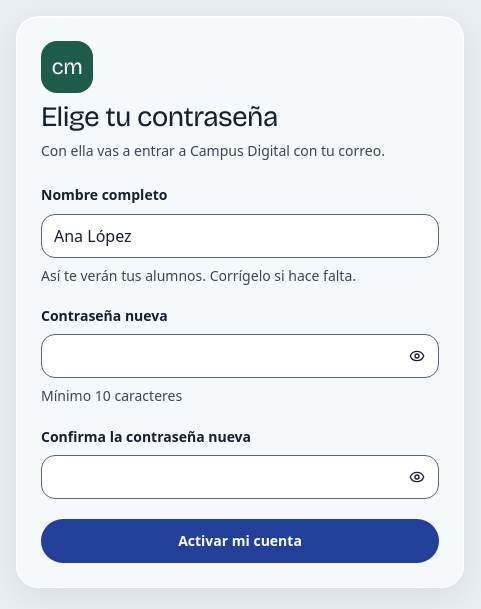
Test: ataque (AUTH-02b r1): formularios de enlace › ENLACE_INVALIDO en la invitación: mensaje propio, sin formulario y sin reintento
expect the button "Activar mi cuenta" is shown: met, box [41,519,439,563]
Type "clave-nueva-de-ataque-1" into the password field labelled "Contraseña nueva" at (240, 356), box [41,334,439,378]
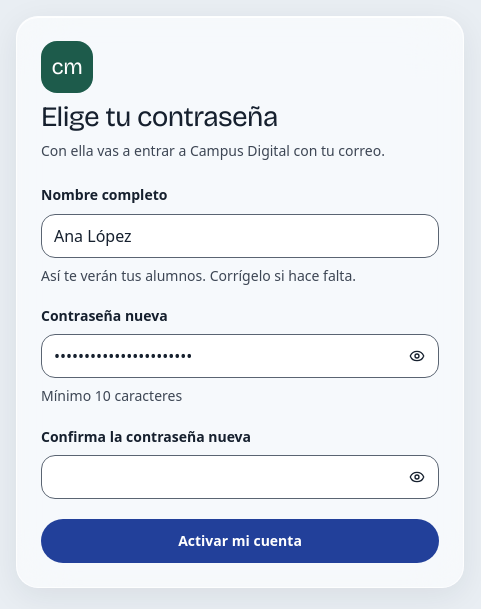
Type "clave-nueva-de-ataque-1" into the password field labelled "Confirma la contraseña nueva" at (240, 477), box [41,455,439,499]
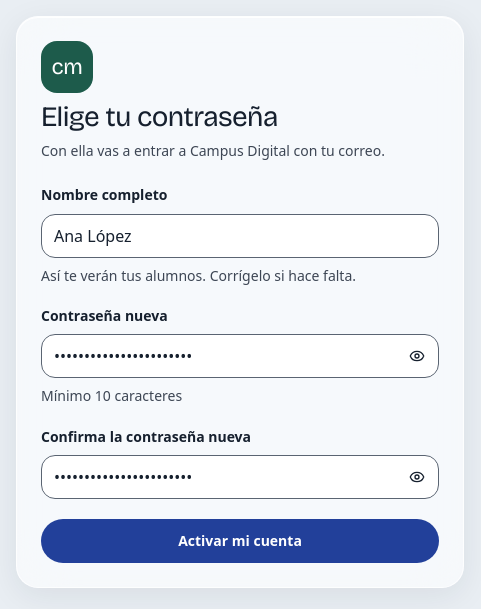
Click the button "Activar mi cuenta" at (240, 541), box [41,519,439,563]
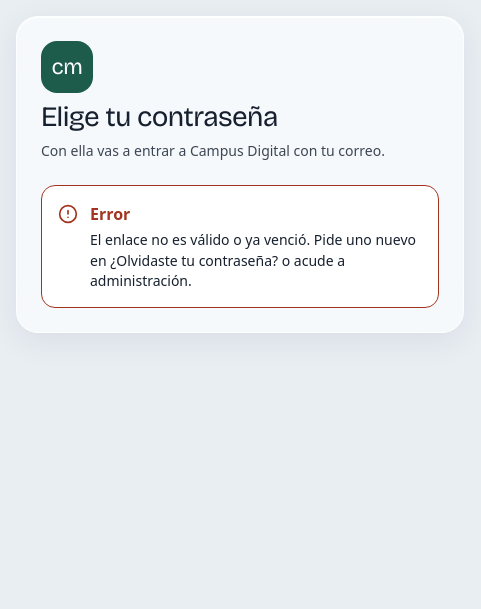
expect the text "El enlace no es válido o ya venció. Pide uno nuevo en ¿Olvidaste tu contraseña? o acude a administración." is shown: met, box [90,230,416,290]
expect the label labelled "Contraseña nueva" is gone: met
